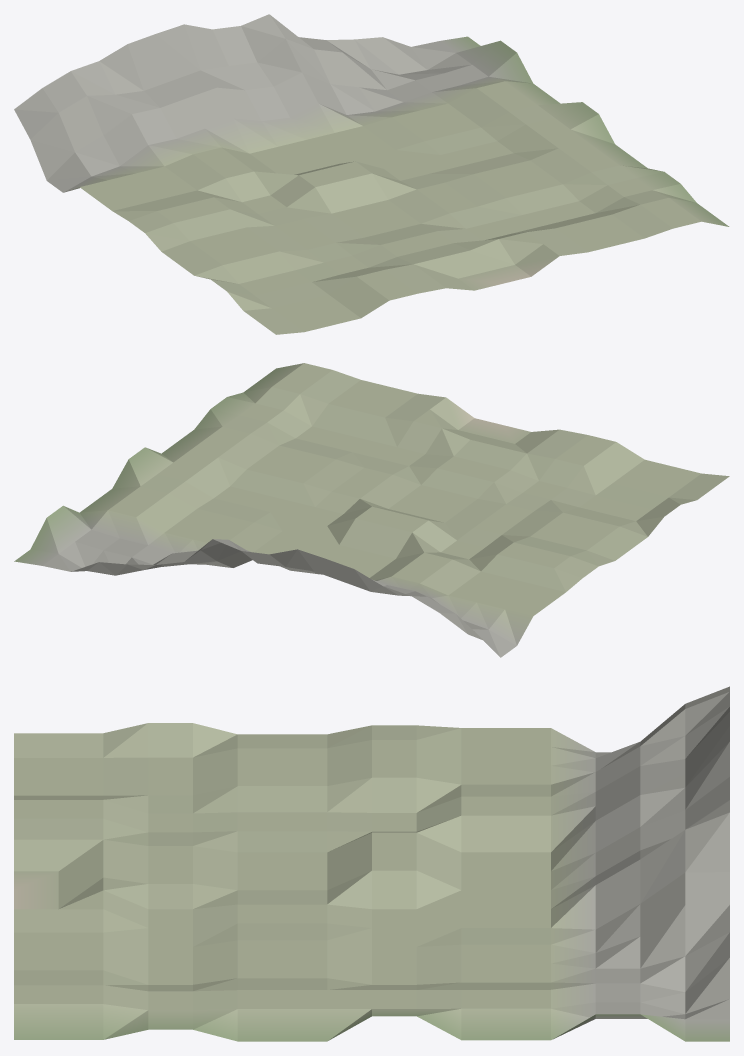
3 renders of one model, top to bottom at view 1: azimuth 30°, elevation 25°; view 2: azimuth 150°, elevation 25°; view 3: azimuth 270°, elevation 25°, orthographic. The views are drawn at different scales.
Size of the model in its own units: 32 by 6.13 by 32.
